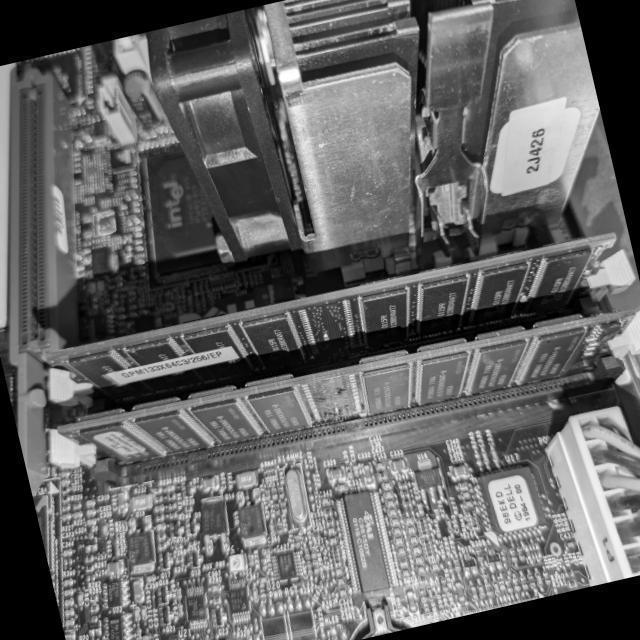CPU_Fan: (138, 0, 622, 305)
Mainboard: (0, 0, 640, 640)
RAM: (41, 222, 630, 425), (55, 288, 640, 492)
